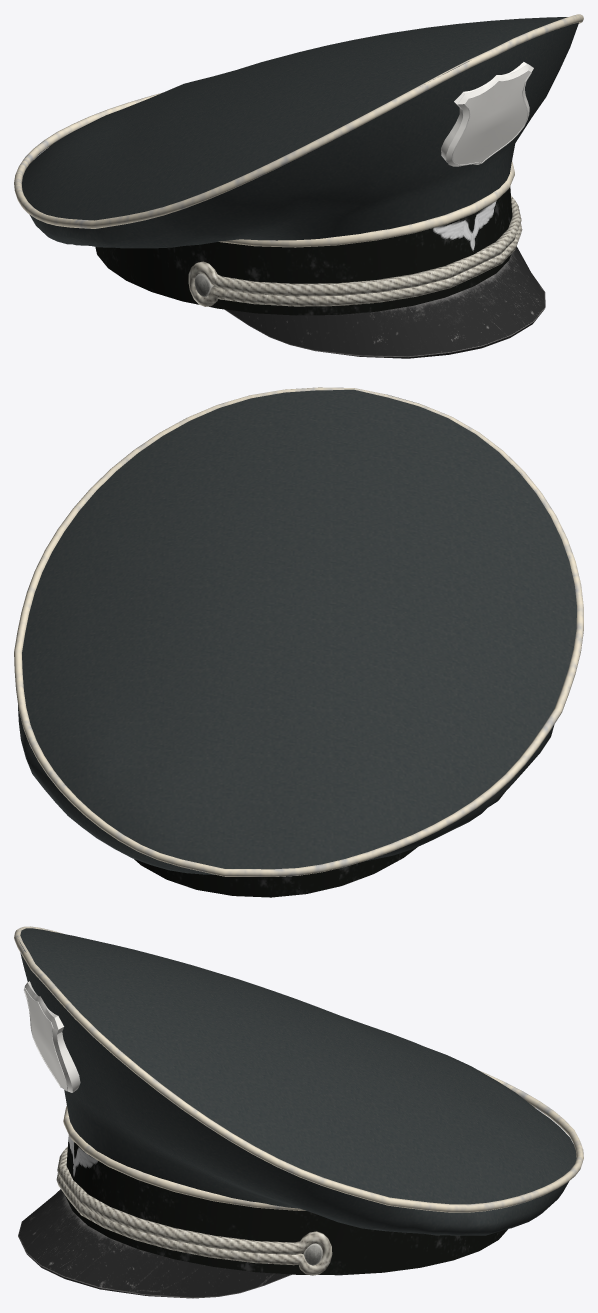
The model's file is police_cap.fbx.
3 views of the same model, one above another, from view 1: azimuth 30°, elevation 25°; view 2: azimuth 150°, elevation 25°; view 3: azimuth 270°, elevation 25° (orthographic). The views are drawn at different scales.
Parts seen in each view (by area): view 1: head, belt, plate, border, rope, badge; view 2: head, border, belt; view 3: head, belt, plate, border, rope, badge.
Boxes of the visible parts, x1,y1,x2,y2 form: head: (22, 17, 578, 248); belt: (95, 186, 512, 315); plate: (224, 246, 545, 358); border: (14, 14, 583, 247); rope: (188, 195, 522, 306); badge: (441, 62, 533, 166); head: (18, 389, 576, 874); border: (14, 387, 583, 876); belt: (134, 847, 417, 897); head: (19, 928, 576, 1235); belt: (65, 1135, 507, 1275); plate: (18, 1189, 291, 1298); border: (14, 926, 583, 1212); rope: (56, 1146, 332, 1275); badge: (24, 981, 80, 1092).
Bounding box in the file's own units: 31.83 × 18.62 × 32.77.
